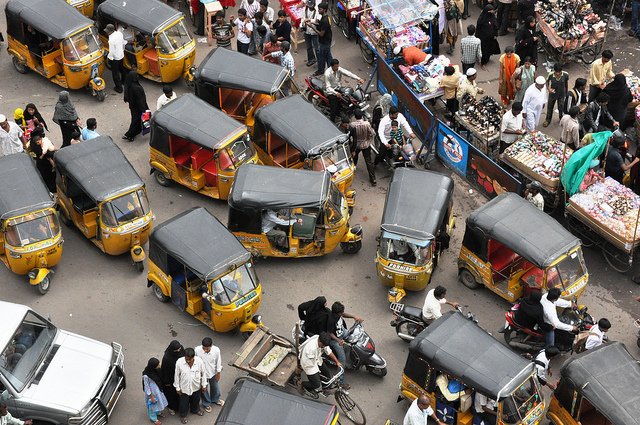bike: (293, 295, 389, 377), (503, 296, 593, 342), (397, 288, 484, 329), (369, 97, 417, 165), (302, 65, 368, 114)
car: (2, 294, 126, 425)
rickshaw: (397, 308, 549, 425), (148, 207, 267, 333), (227, 159, 367, 265), (48, 144, 156, 273), (464, 195, 590, 300), (152, 90, 256, 197), (378, 167, 458, 299), (2, 1, 110, 97), (1, 150, 74, 280), (92, 2, 199, 83), (273, 93, 353, 183), (195, 45, 289, 107), (224, 377, 340, 425)
